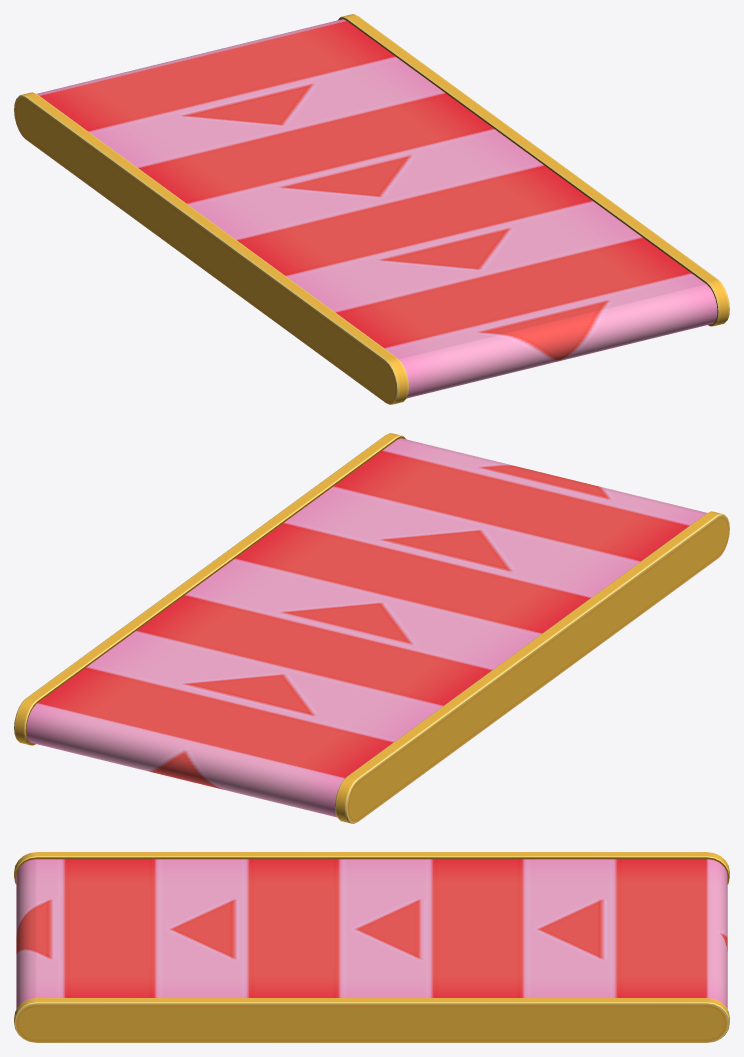
Rendered from Conveyor_L.fbx.
3 views of the same model, one above another, from view 1: azimuth 30°, elevation 25°; view 2: azimuth 150°, elevation 25°; view 3: azimuth 270°, elevation 25° (orthographic). The views are drawn at different scales.
Visible parts, largest first — view 1: conveyor_L; view 2: conveyor_L; view 3: conveyor_L.
Boxes of the visible parts, x1,y1,x2,y2 form: conveyor_L: (14,14,729,404); conveyor_L: (14,433,729,823); conveyor_L: (14,852,729,1042).
Bounding box in the file's own units: 400 × 50 × 800.
